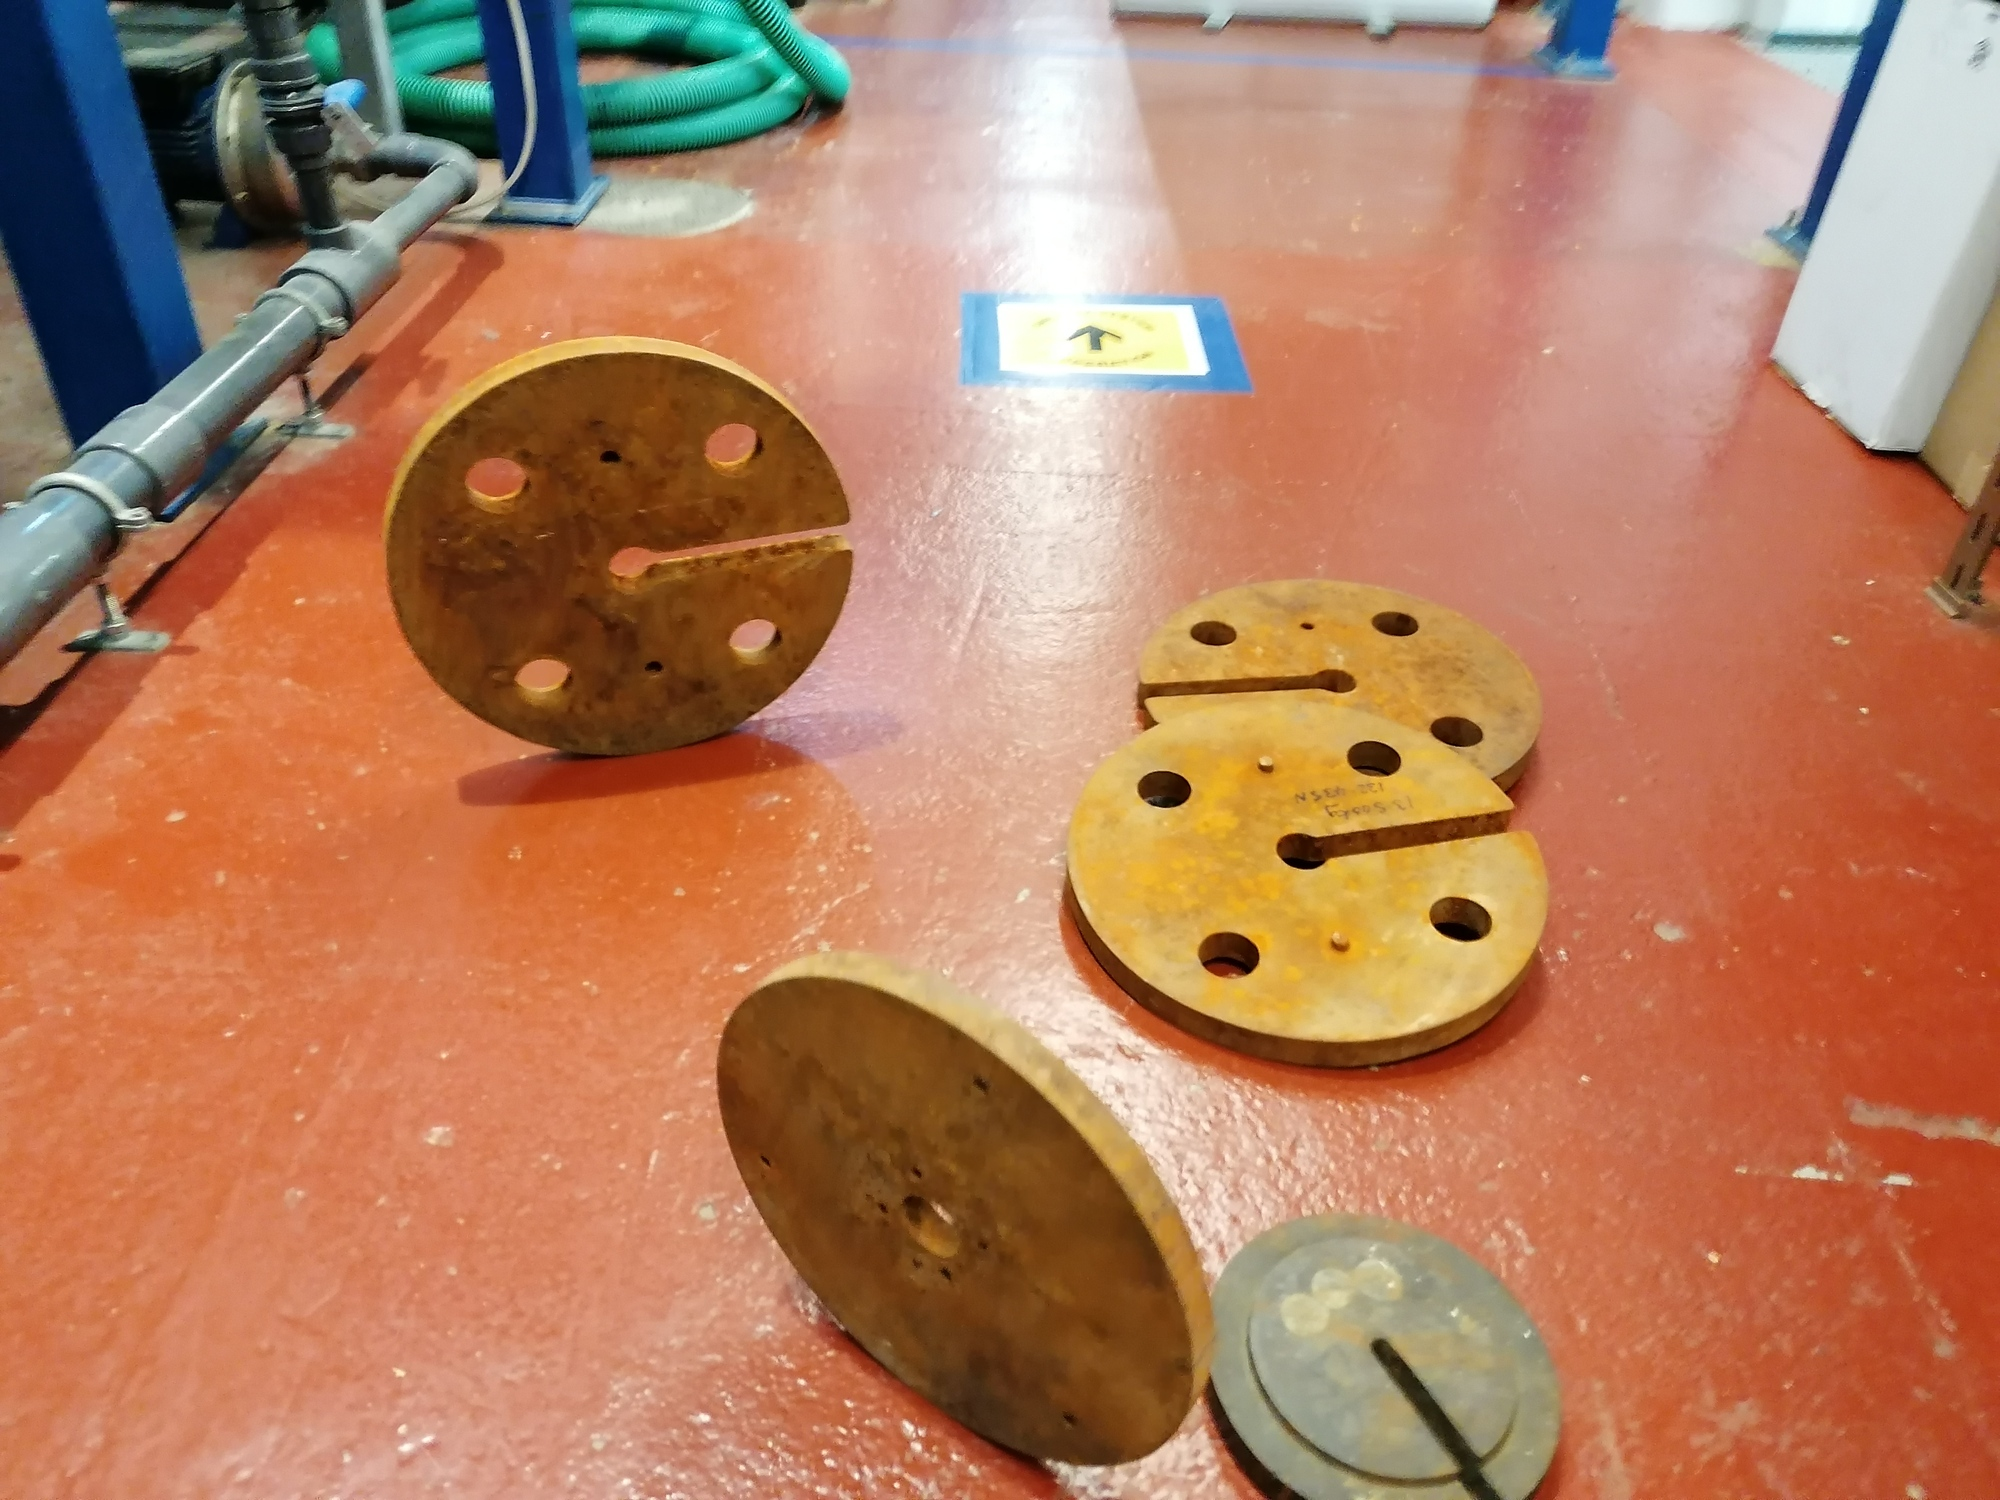flange: (717, 949, 1216, 1468), (380, 334, 855, 756), (1065, 701, 1550, 1068), (1198, 1209, 1564, 1498), (1132, 577, 1542, 799)
